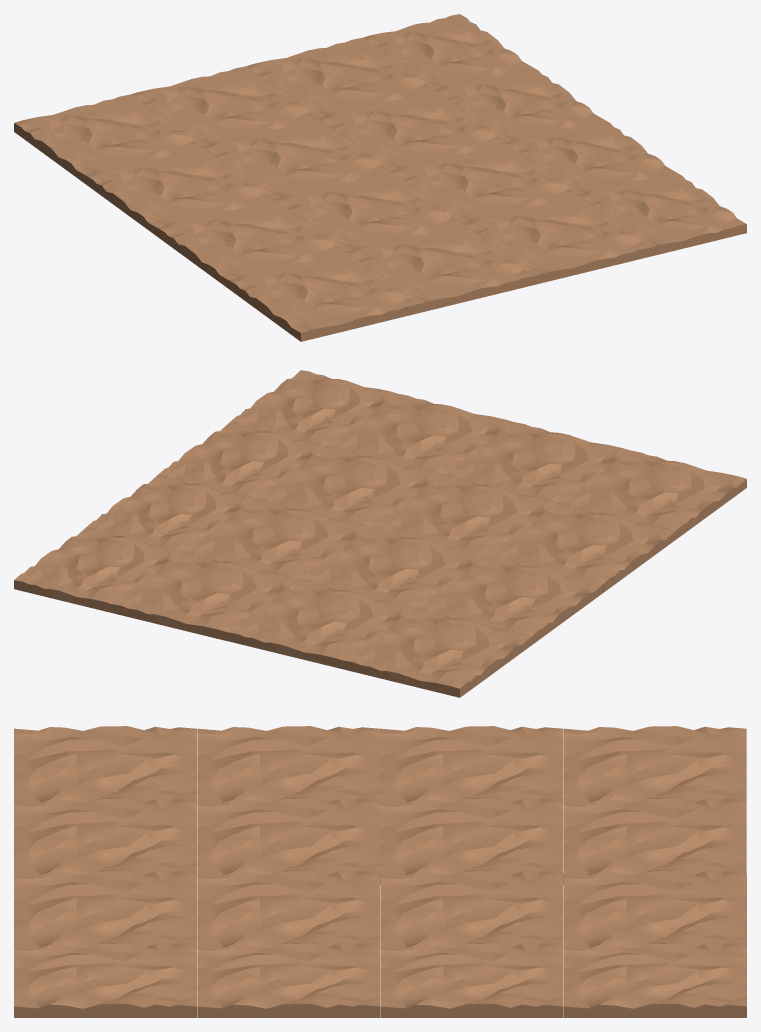
The model's file is PastSoil2.fbx.
The picture shows the model from 3 angles, top to bottom: view 1: azimuth 30°, elevation 25°; view 2: azimuth 150°, elevation 25°; view 3: azimuth 270°, elevation 25°; orthographic projection. The views are drawn at different scales.
Parts seen in each view (by area): view 1: pasted__pasted__Grass_Base__29_13; view 2: pasted__pasted__Grass_Base__29_13; view 3: pasted__pasted__Grass_Base__29_13.
Boxes of the visible parts, x1,y1,x2,y2 form: pasted__pasted__Grass_Base__29_13: (14, 14, 746, 341); pasted__pasted__Grass_Base__29_13: (14, 370, 746, 697); pasted__pasted__Grass_Base__29_13: (14, 726, 746, 1017).
Size of the model in its own units: 1342 by 35.05 by 1497.
